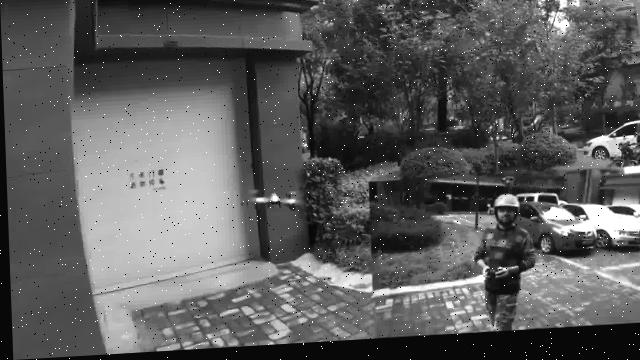drone: (226, 183, 309, 232)
